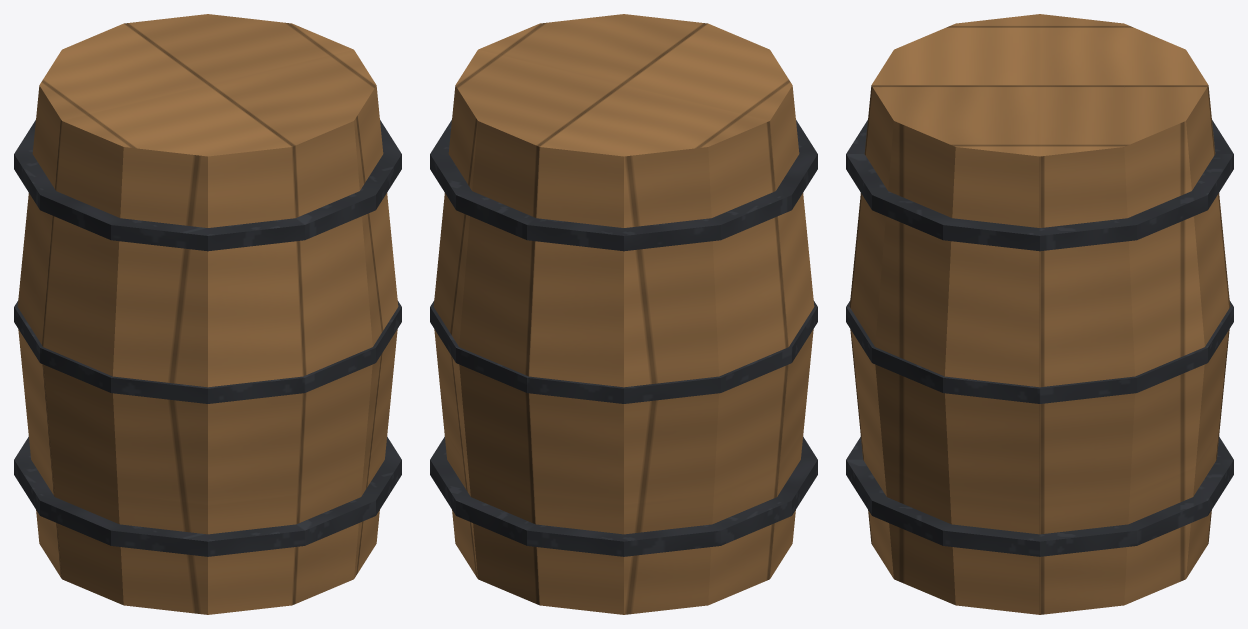
File: beczka.glb
3 renders of one model, left to right at view 1: azimuth 30°, elevation 25°; view 2: azimuth 150°, elevation 25°; view 3: azimuth 270°, elevation 25°, orthographic.
Parts seen in each view (by area): view 1: beczka; view 2: beczka; view 3: beczka.
Boxes of the visible parts, <box> form: beczka: <box>14,14,401,614</box>; beczka: <box>430,14,817,614</box>; beczka: <box>846,14,1233,614</box>.
Size of the model in its own units: 0.69 by 0.9 by 0.69.
2 materials, 2 textured.
